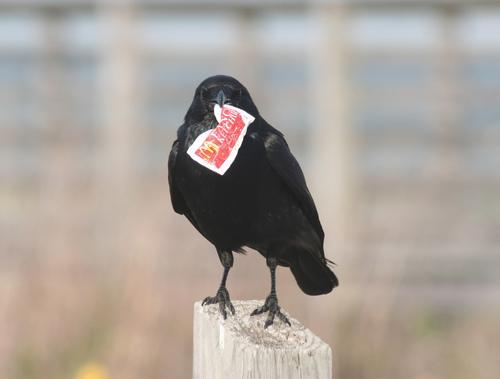Crow: (166, 73, 341, 331)
